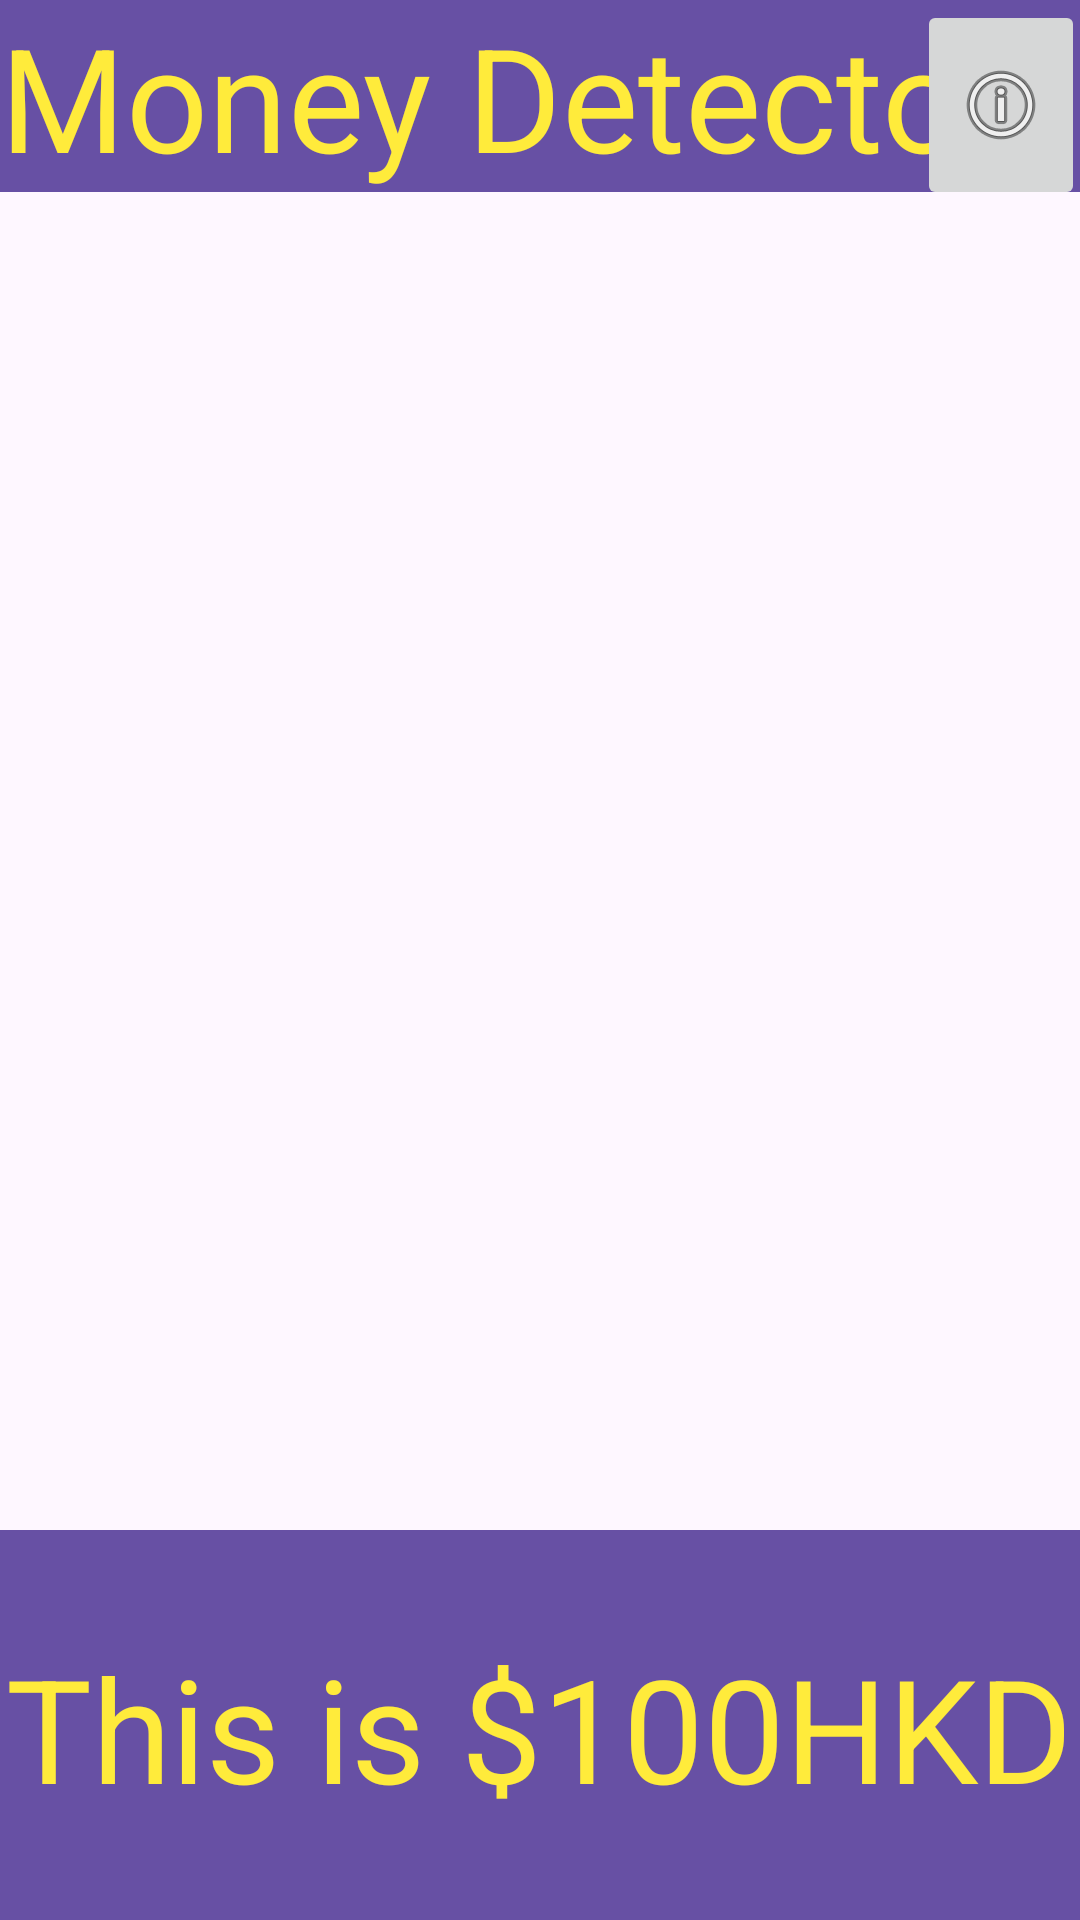

Screen size 1080 x 1920. Icon name, then its center in pixels as [x,y]:
info details: [998,105]
